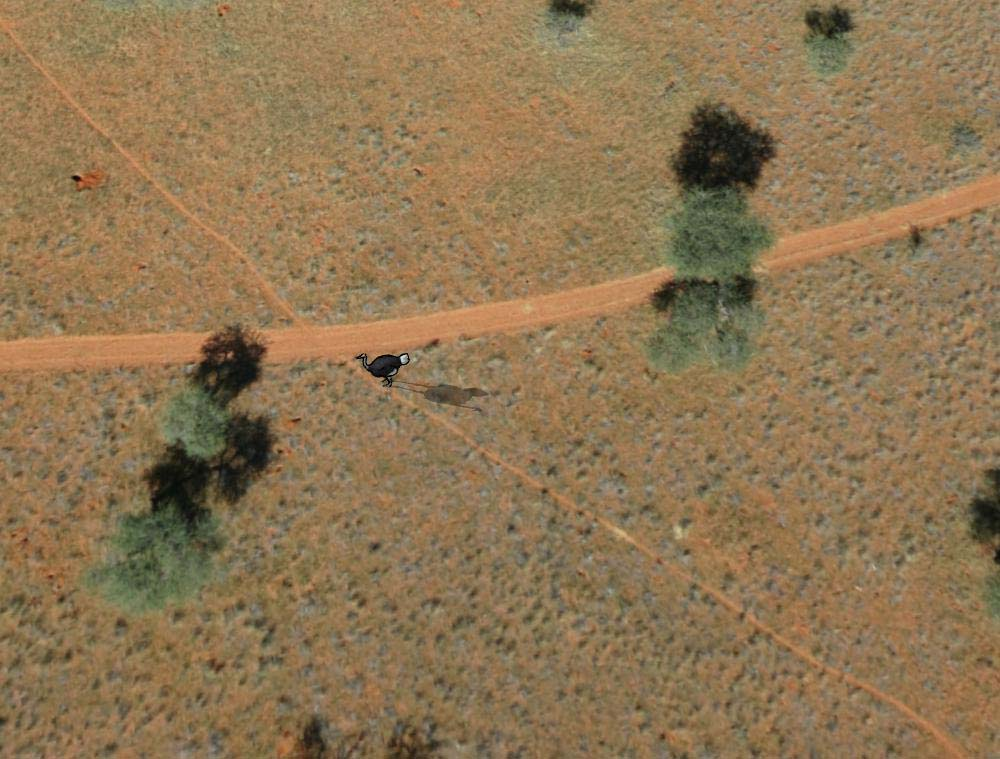springbok: (352, 347, 413, 389)
